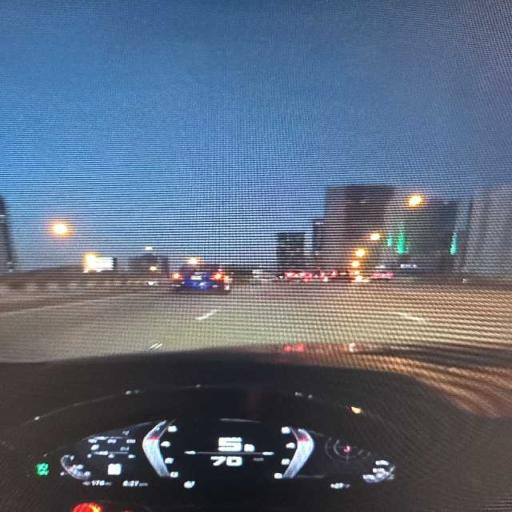car: (0, 343, 511, 511), (172, 266, 232, 293), (280, 270, 312, 282), (370, 270, 394, 281)
lane: (0, 283, 511, 360)
